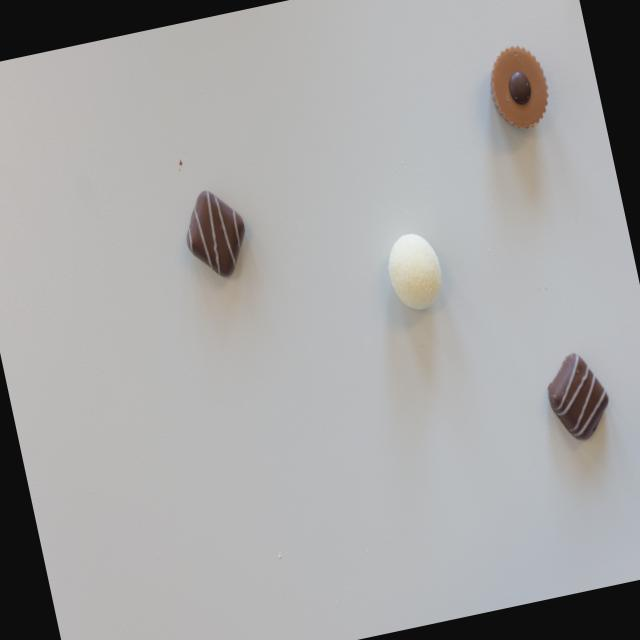Comtesse: (381, 228, 447, 312)
Noblesse: (482, 40, 556, 134)
Stracciatella: (178, 183, 255, 282), (540, 346, 616, 446)
